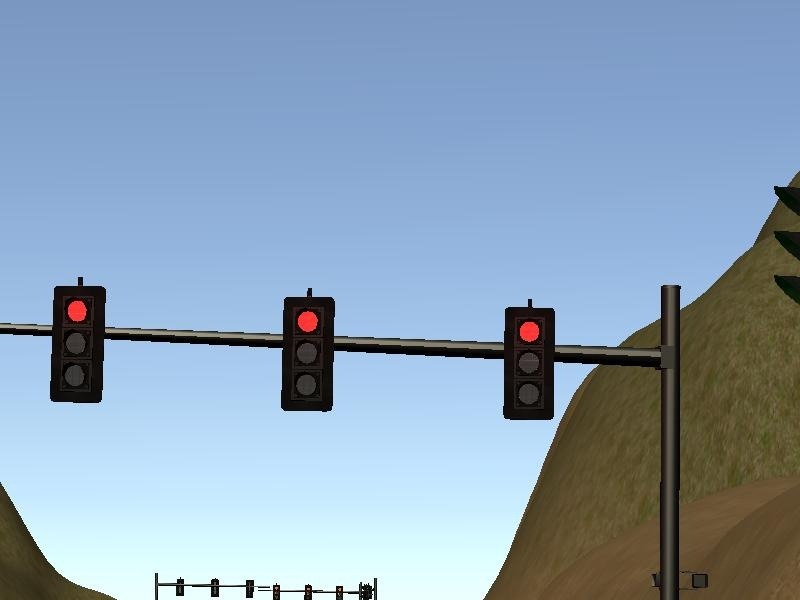RED: (50, 286, 106, 404), (278, 295, 334, 413), (502, 305, 558, 423)
